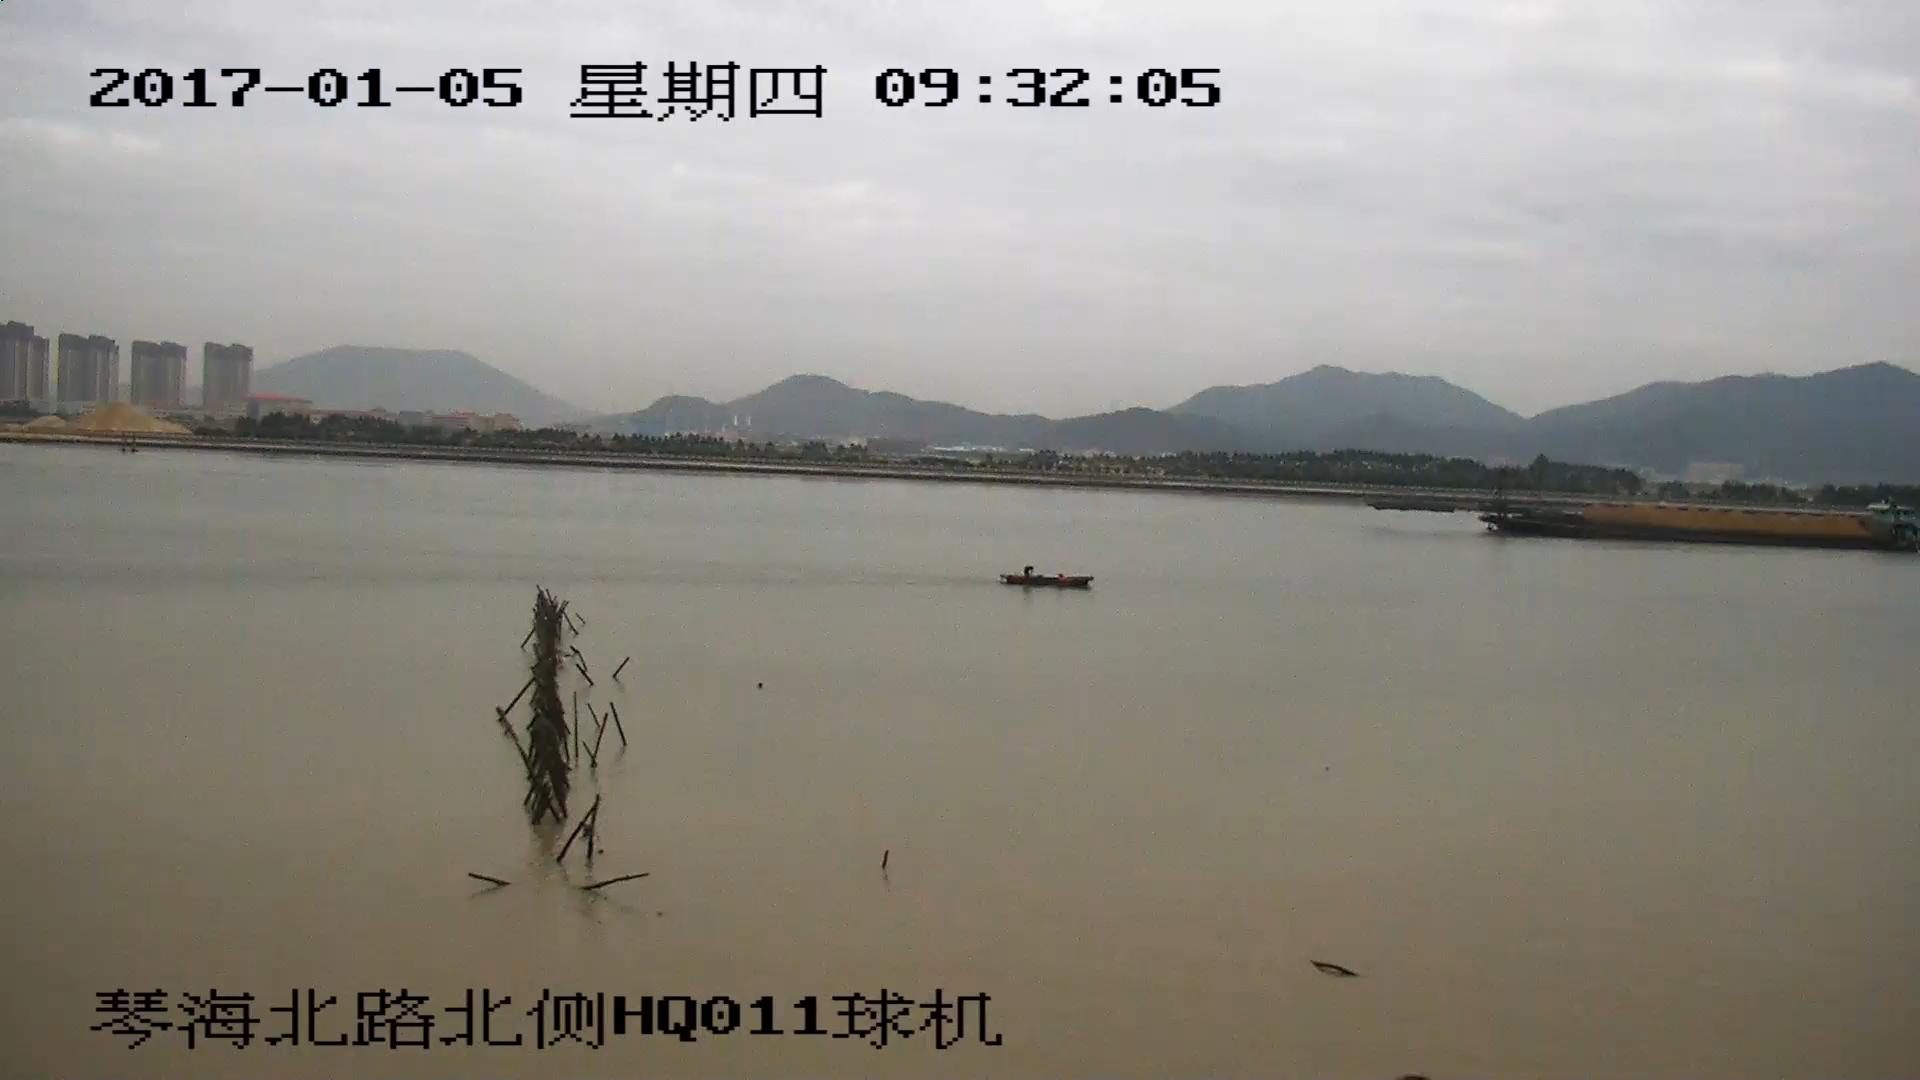fishing boat: (1002, 564, 1090, 590)
ore carrier: (1376, 482, 1920, 548)
